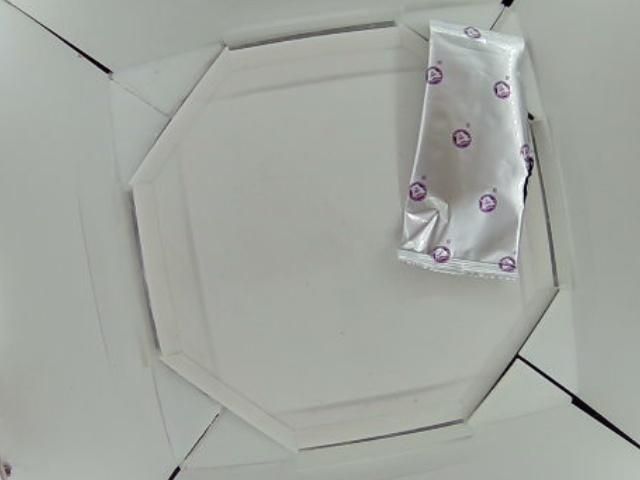Medicine: (395, 22, 538, 283)
